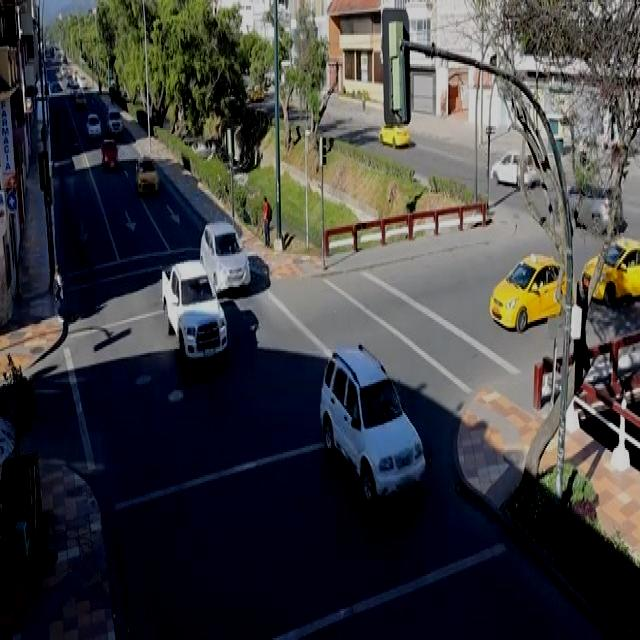CMT: (161, 259, 233, 366)
